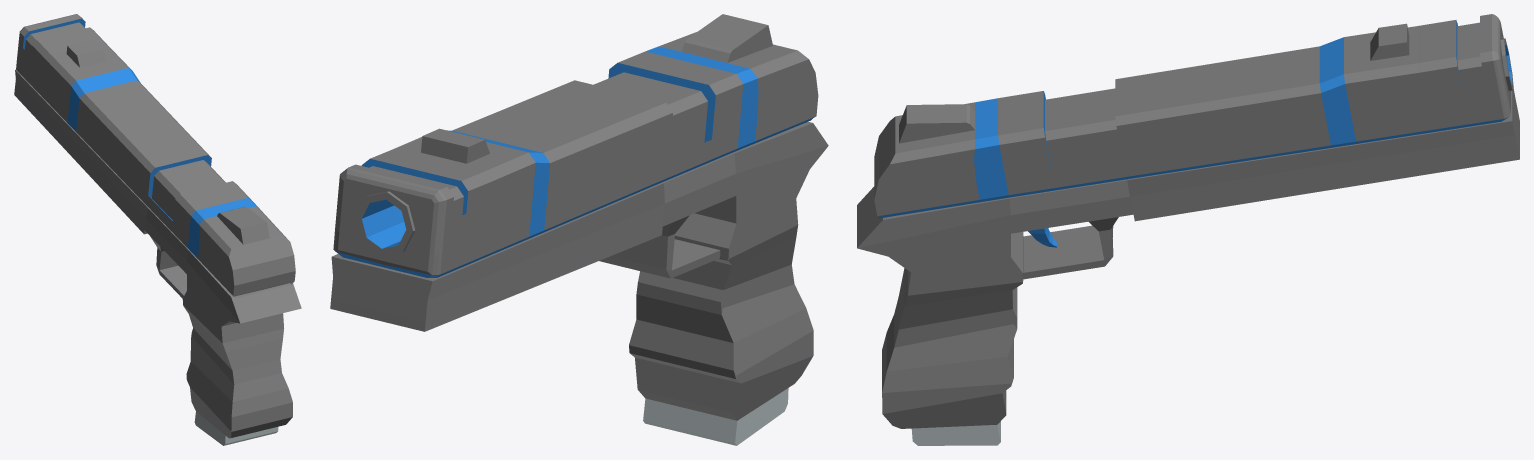
File: PistolDesign04.fbx
The picture shows the model from 3 angles, left to right: view 1: azimuth 30°, elevation 25°; view 2: azimuth 150°, elevation 25°; view 3: azimuth 270°, elevation 25°; orthographic projection. The views are drawn at different scales.
Parts seen in each view (by area): view 1: Design04; view 2: Design04; view 3: Design04.
Part boxes in pixels (bbox=[...]): Design04: bbox=[14, 14, 301, 445]; Design04: bbox=[330, 14, 828, 445]; Design04: bbox=[857, 14, 1519, 445].
Size of the model in its own units: 72.96 by 310 by 472.
